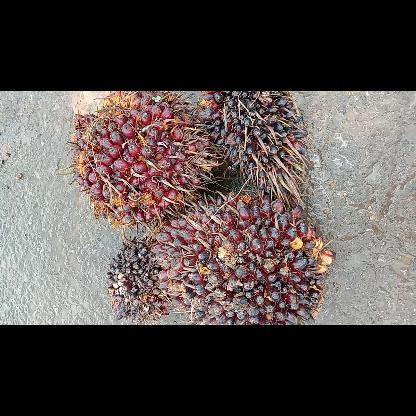Kurang masak: (153, 192, 331, 324)
TBS abnormal: (198, 91, 306, 201), (111, 235, 169, 320)
TBS masak: (70, 91, 214, 225)
